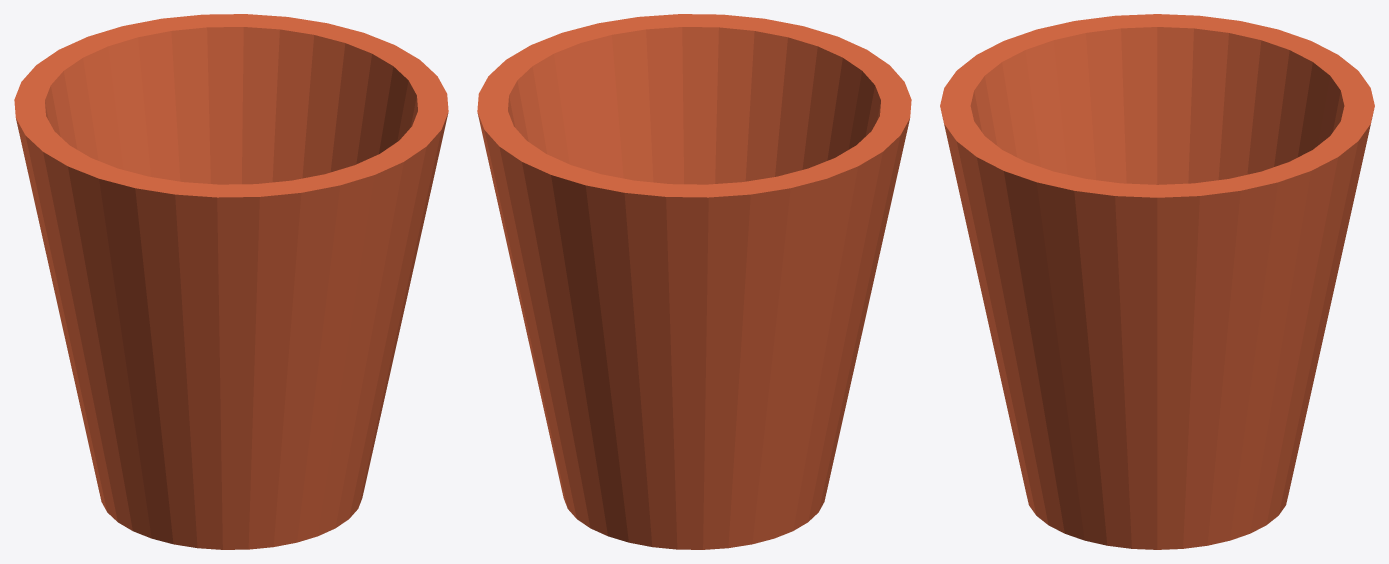
The model's file is papierkorb.fbx.
The picture shows the model from 3 angles, left to right: view 1: azimuth 30°, elevation 25°; view 2: azimuth 150°, elevation 25°; view 3: azimuth 270°, elevation 25°; orthographic projection.
Visible parts, largest first — view 1: Cylinder; view 2: Cylinder; view 3: Cylinder.
Boxes of the visible parts, x1,y1,x2,y2 form: Cylinder: (14,14,448,549); Cylinder: (477,14,911,549); Cylinder: (940,14,1374,549).
Size of the model in its own units: 40 by 39.44 by 40.
